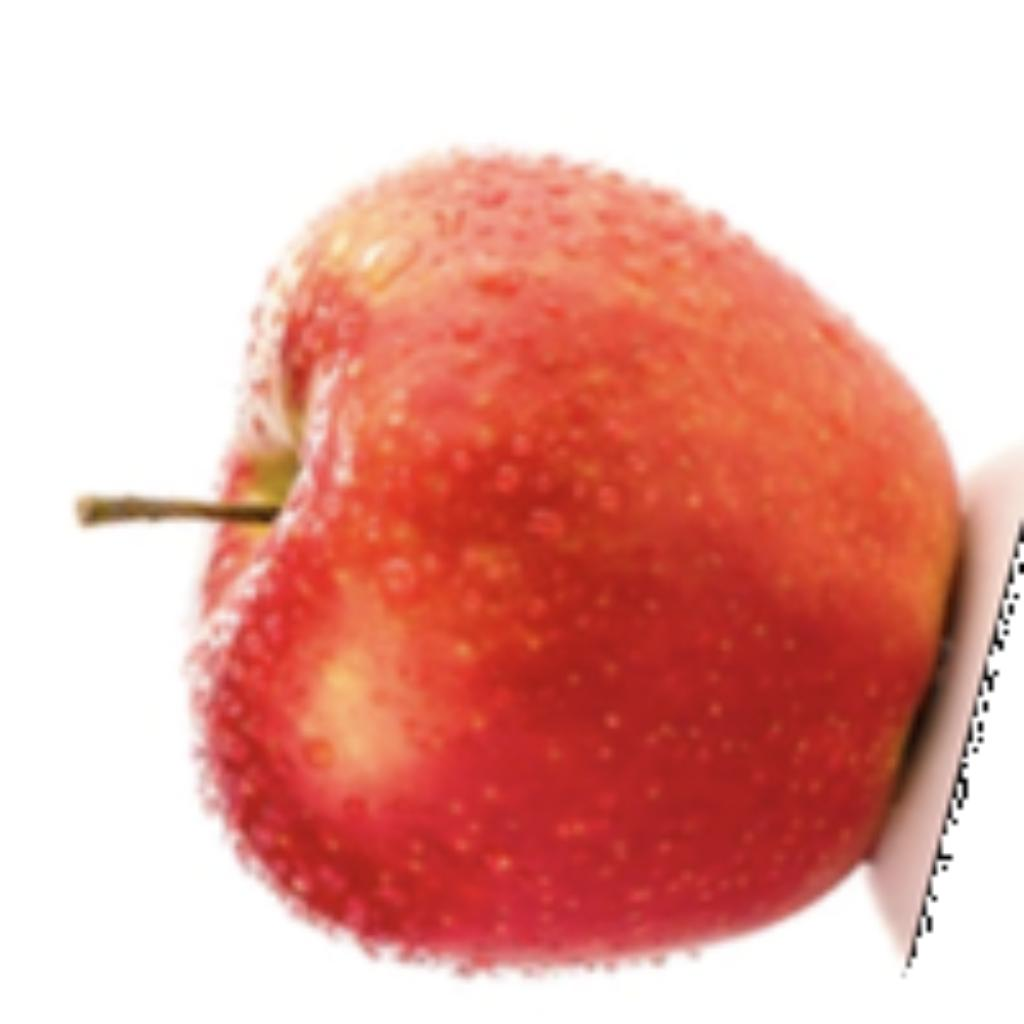apple: (174, 138, 1019, 983)
